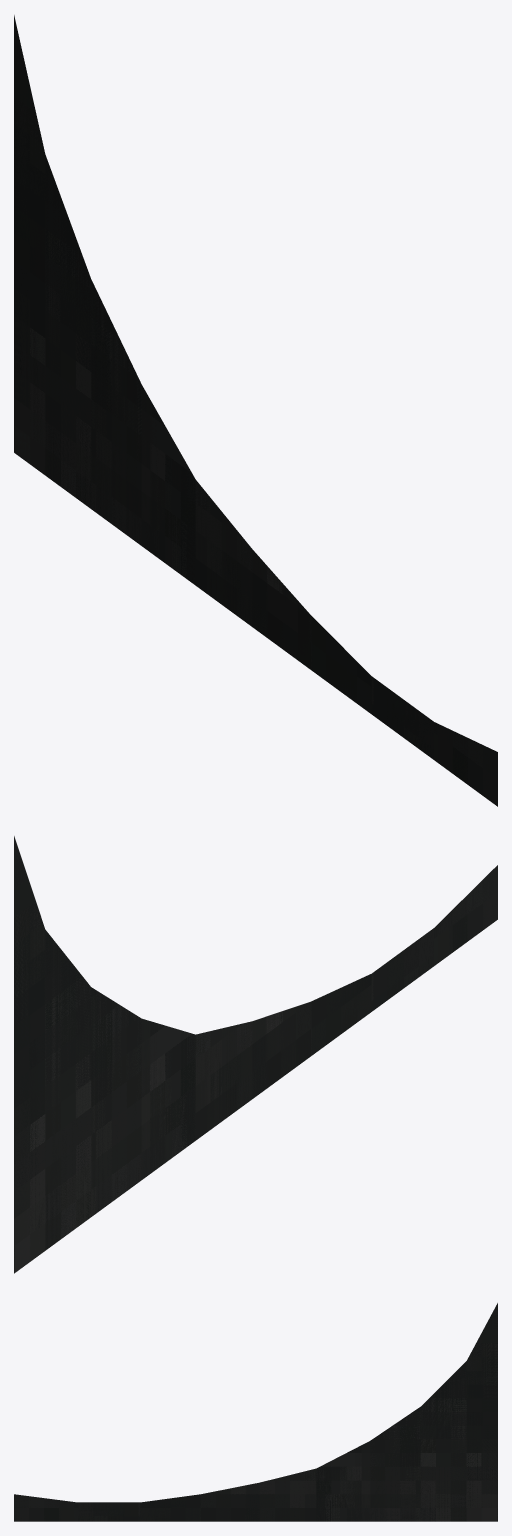
Rendered from blade2x1.obj.
3 renders of one model, top to bottom at view 1: azimuth 30°, elevation 25°; view 2: azimuth 150°, elevation 25°; view 3: azimuth 270°, elevation 25°, orthographic. The views are drawn at different scales.
Parts seen in each view (by area): view 1: plane; view 2: plane; view 3: plane.
Boxes of the visible parts, x1,y1,x2,y2 form: plane: (14,15,497,806); plane: (14,836,497,1273); plane: (14,1303,497,1521).
Size of the model in its own units: 0 by 1 by 2.
